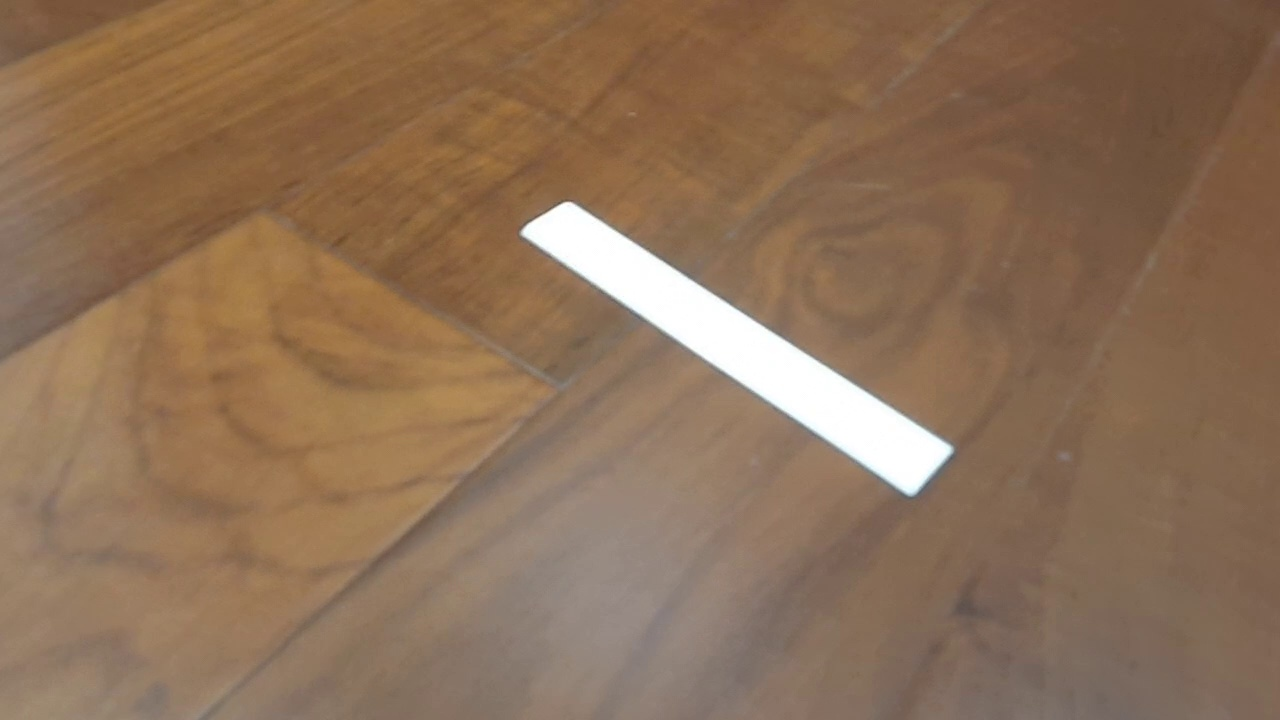ruler: (518, 198, 957, 499)
